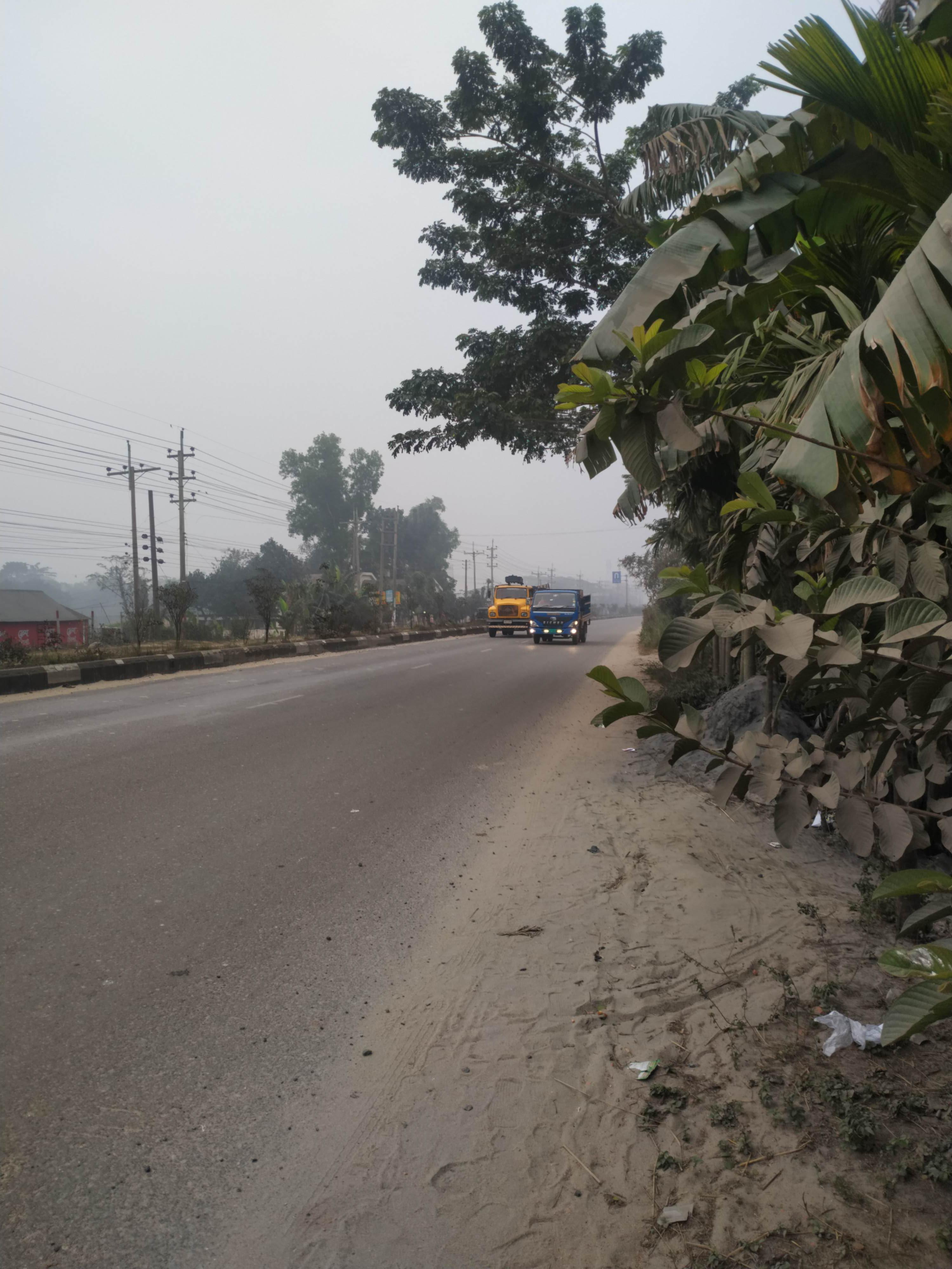Truck: (532, 576, 601, 662), (476, 569, 537, 645)
